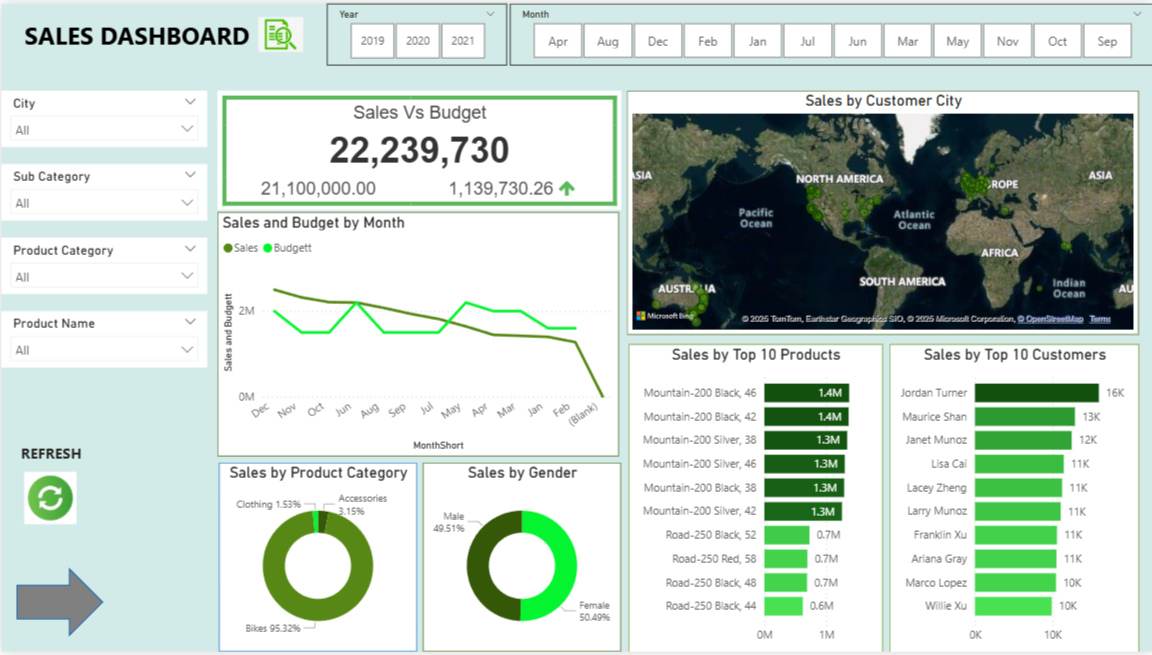

What the dashboard file says about the page in this screenshot:
{"tool":"powerbi","page":{"name":"SALES","canvas":[1280,720],"ordinal":0},"visuals":[{"type":"textbox","box":[0,11.2,301.2,57.5],"z":0},{"type":"slicer","fields":{"Values":["DIM_Calendar.Year"]},"box":[361.2,0,200,68.8],"z":1000},{"type":"slicer","fields":{"Values":["DIM_Calendar.MonthShort"]},"box":[564.9,0,715.4,68.5],"z":2000},{"type":"slicer","fields":{"Values":["DIM_Customers.Customer City"]},"box":[0,96.8,228.7,62.4],"z":3000},{"type":"slicer","fields":{"Values":["DIM_Products.Sub Category"]},"box":[0,178.8,228.7,62.4],"z":4000},{"type":"slicer","fields":{"Values":["DIM_Products.Product Category"]},"box":[0,260.7,228.7,62.4],"z":5000},{"type":"slicer","fields":{"Values":["DIM_Products.Product Name"]},"box":[0,341.4,228.7,62.4],"z":6000},{"type":"BBED0A4D4D8D44CE93CF2DAFADEE466C","fields":{"actual":["Metrics.Sales"],"target1":["Metrics.Budgett"],"target2":["Metrics.Sales- Budget"]},"box":[240,96.2,448.8,132.5],"z":7000},{"type":"donutChart","fields":{"Y":["Metrics.Sales"],"Series":["DIM_Products.Product Category"]},"box":[241.2,510,220,210],"z":8000},{"type":"lineChart","title":"Sales and Budget by Month","fields":{"Category":["DIM_Calendar.MonthShort"],"Y":["Metrics.Sales","Metrics.Budgett"]},"box":[240,231.2,446.2,271.2],"z":9000},{"type":"barChart","title":"Sales by Top 10 Customers","fields":{"Category":["DIM_Customers.Full Name"],"Y":["Metrics.Sales"]},"box":[986.2,377.5,277.5,342.5],"z":10000},{"type":"barChart","title":"Sales by Top 10 Products","fields":{"Y":["Metrics.Sales"],"Category":["DIM_Products.Product Name"]},"box":[696.2,377.5,282.5,342.5],"z":11000},{"type":"map","fields":{"Category":["DIM_Customers.Customer City"],"Size":["Metrics.Sales"]},"box":[694.4,96.7,568.9,271.1],"z":12000},{"type":"donutChart","fields":{"Y":["Metrics.Sales"],"Series":["DIM_Customers.Gender"]},"box":[468.8,510,220,210],"z":13000},{"type":"image","box":[16.7,515,75,68.3],"z":14000},{"type":"textbox","box":[16.7,483.3,228.3,31.7],"z":15000},{"type":"image","box":[280,1.2,60,65],"z":16000},{"type":"shape","box":[16.7,626.7,96.7,76.7],"z":17000}]}

Visuals, with their boxes in screenshot pixels (x1, y1, x2, y2), scaled from the page's 1280x720 canvas onto the 1152x655 screenshot:
textbox: 0 10 271 62
slicer - DIM_Calendar.Year: 325 0 505 63
slicer - DIM_Calendar.MonthShort: 508 0 1151 62
slicer - DIM_Customers.Customer City: 0 88 206 145
slicer - DIM_Products.Sub Category: 0 163 206 219
slicer - DIM_Products.Product Category: 0 237 206 294
slicer - DIM_Products.Product Name: 0 311 206 367
BBED0A4D4D8D44CE93CF2DAFADEE466C - Metrics.Sales x Metrics.Budgett: 216 88 620 208
donutChart - Metrics.Sales x DIM_Products.Product Category: 217 464 415 654
"Sales and Budget by Month" lineChart: 216 210 618 457
"Sales by Top 10 Customers" barChart: 888 343 1137 654
"Sales by Top 10 Products" barChart: 627 343 881 654
map - DIM_Customers.Customer City x Metrics.Sales: 625 88 1137 335
donutChart - Metrics.Sales x DIM_Customers.Gender: 422 464 620 654
image: 15 469 83 531
textbox: 15 440 220 469
image: 252 1 306 60
shape: 15 570 102 640
